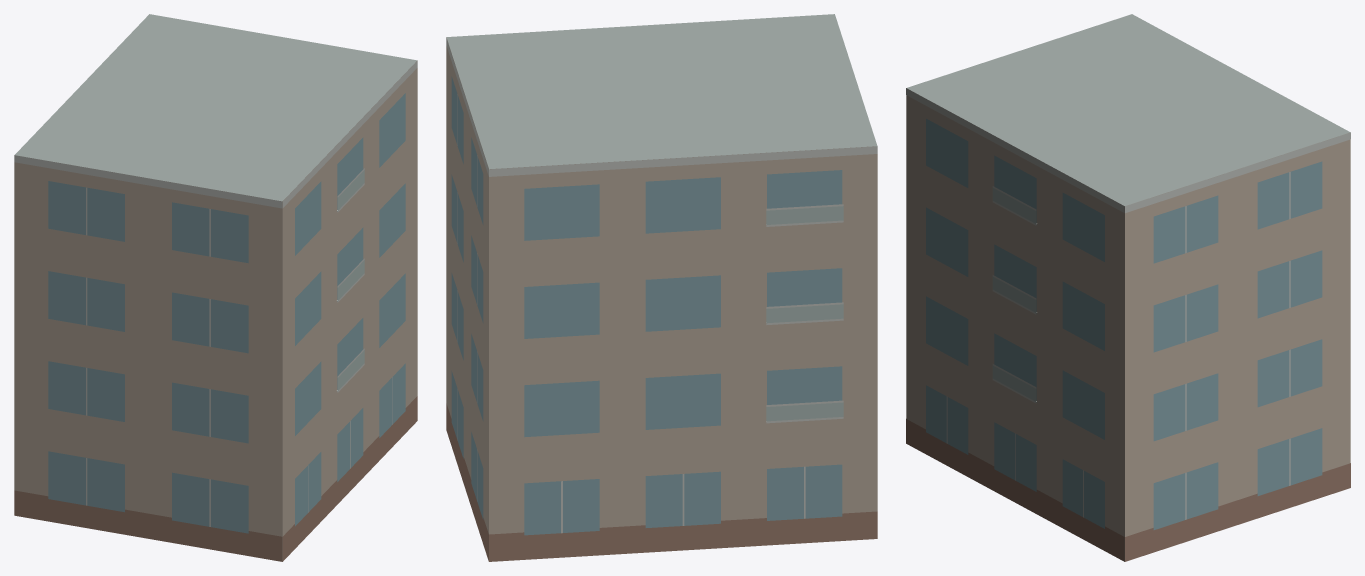
Rendered from survey-upis-33034647.glb.
The picture shows the model from 3 angles, left to right: view 1: azimuth 30°, elevation 25°; view 2: azimuth 150°, elevation 25°; view 3: azimuth 270°, elevation 25°; orthographic projection. The views are drawn at different scales.
Parts seen in each view (by area): view 1: survey-upis-33034647.tmp; view 2: survey-upis-33034647.tmp; view 3: survey-upis-33034647.tmp.
Part boxes in pixels (x1,y1,x2,y2): survey-upis-33034647.tmp: (14,14,417,561); survey-upis-33034647.tmp: (446,14,877,561); survey-upis-33034647.tmp: (906,14,1350,561).
Size of the model in its own units: 14.27 by 12.3 by 13.94.
